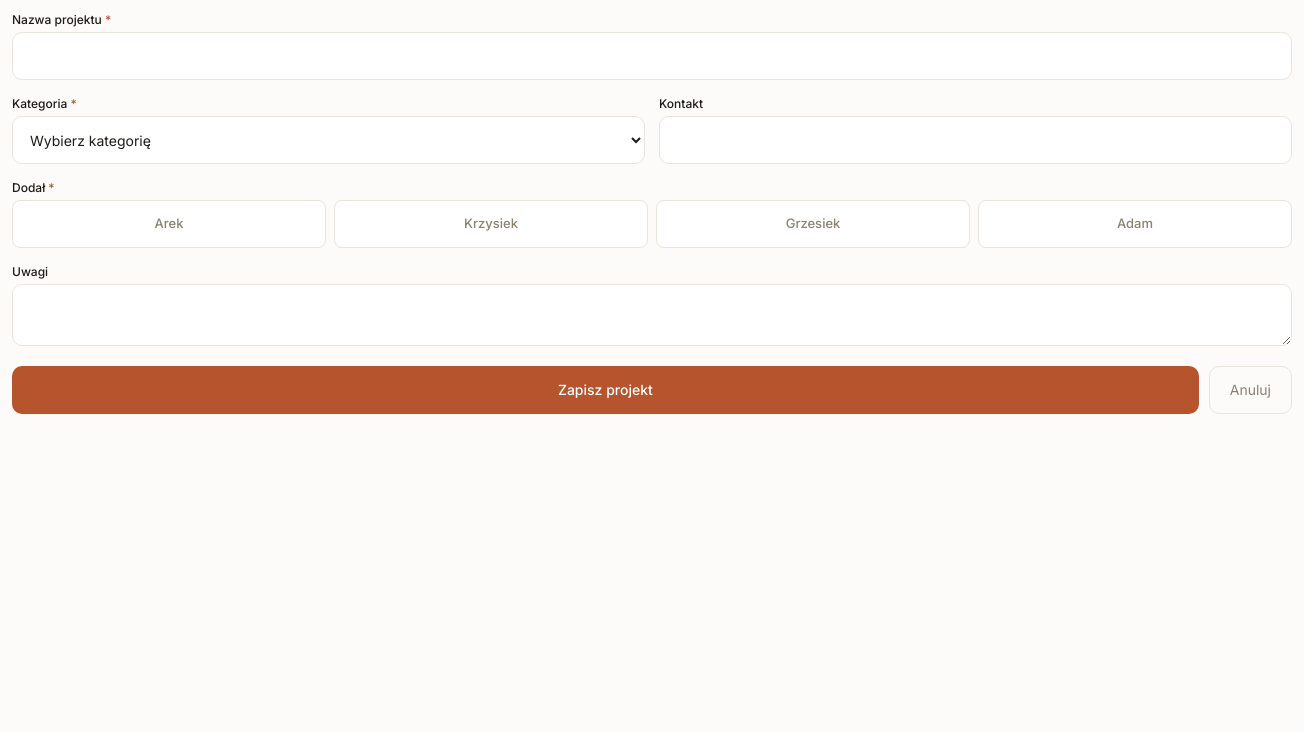
Test: ProjektForm — walidacja › wybór „Inne…" bez wpisania własnej kategorii blokuje submit z komunikatem PL
The image size is (1304, 732).
Type "Bluzy dla klubu" into the field labelled "Nazwa projektu *". click: (652, 56)
box: x1=12 y1=32 x2=1292 y2=80
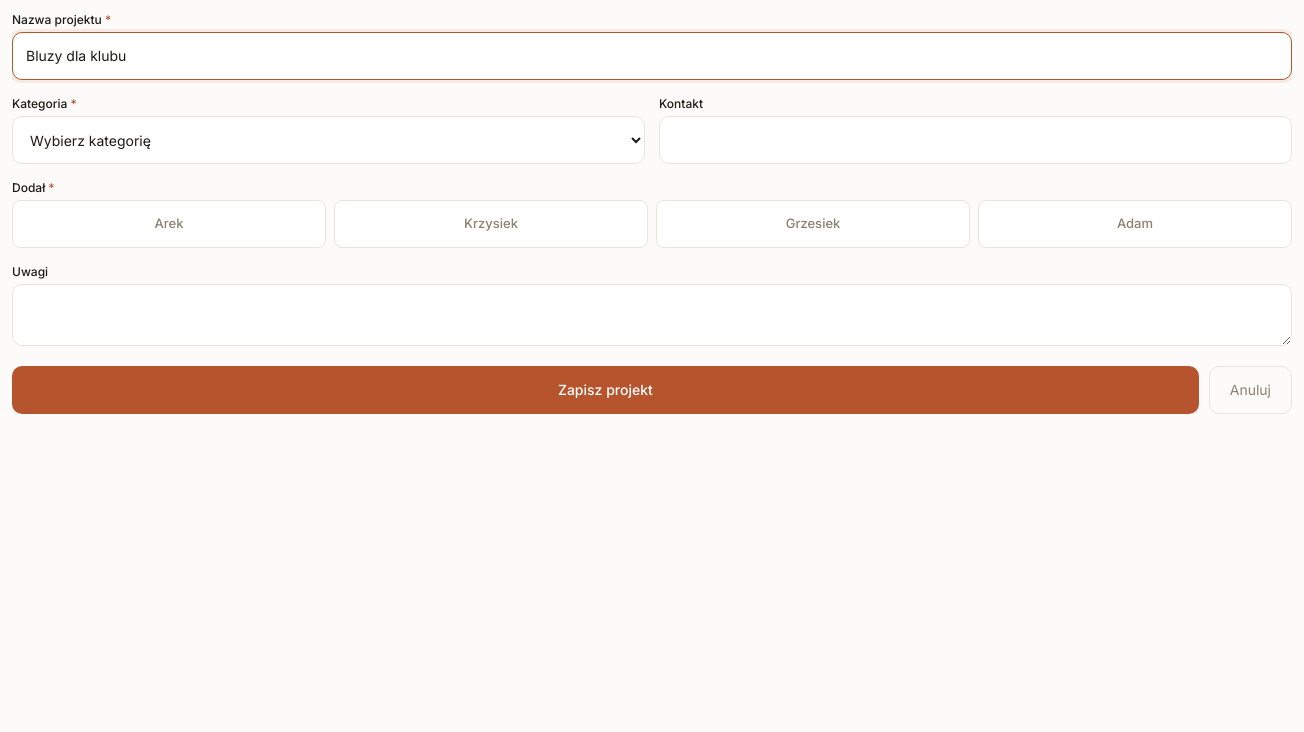
Select "Inne…" in the dropdown labelled "Kategoria *". click: (328, 140)
box: x1=12 y1=116 x2=645 y2=164
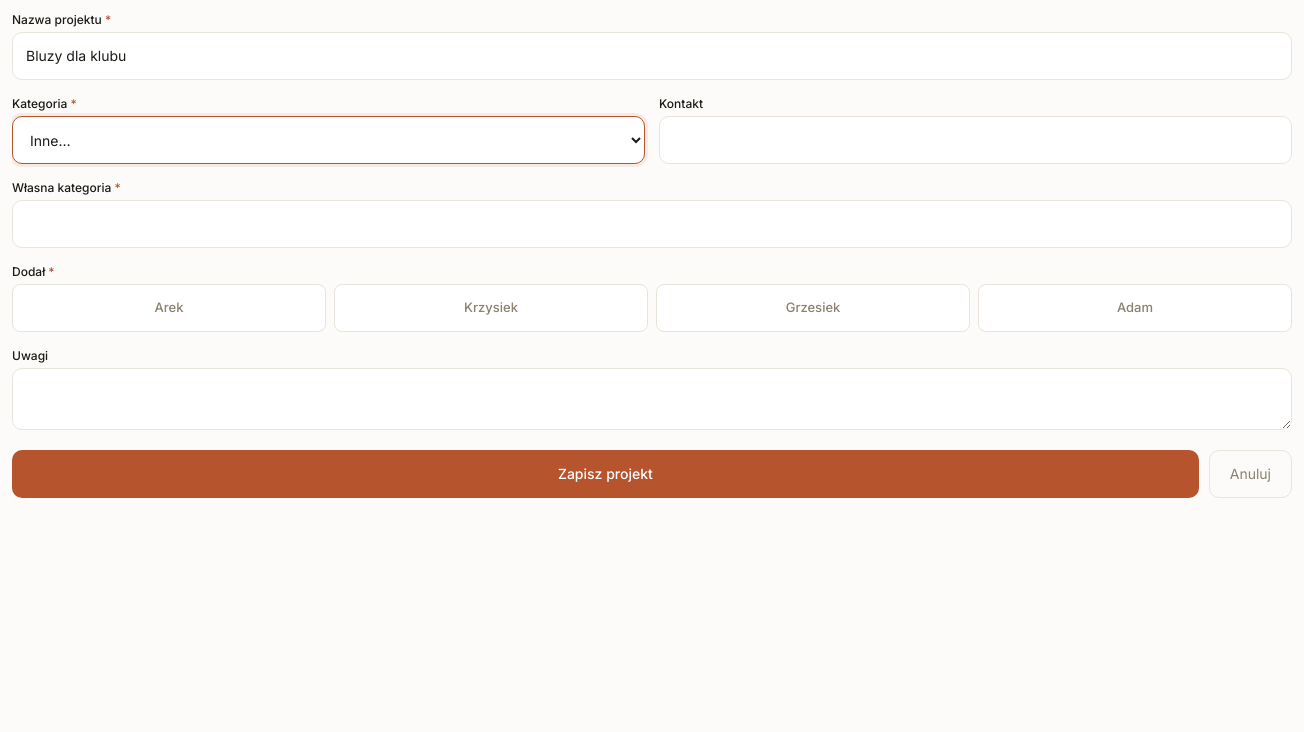
Click the radio button labelled "Arek". click: (169, 308)
box: x1=12 y1=284 x2=326 y2=332
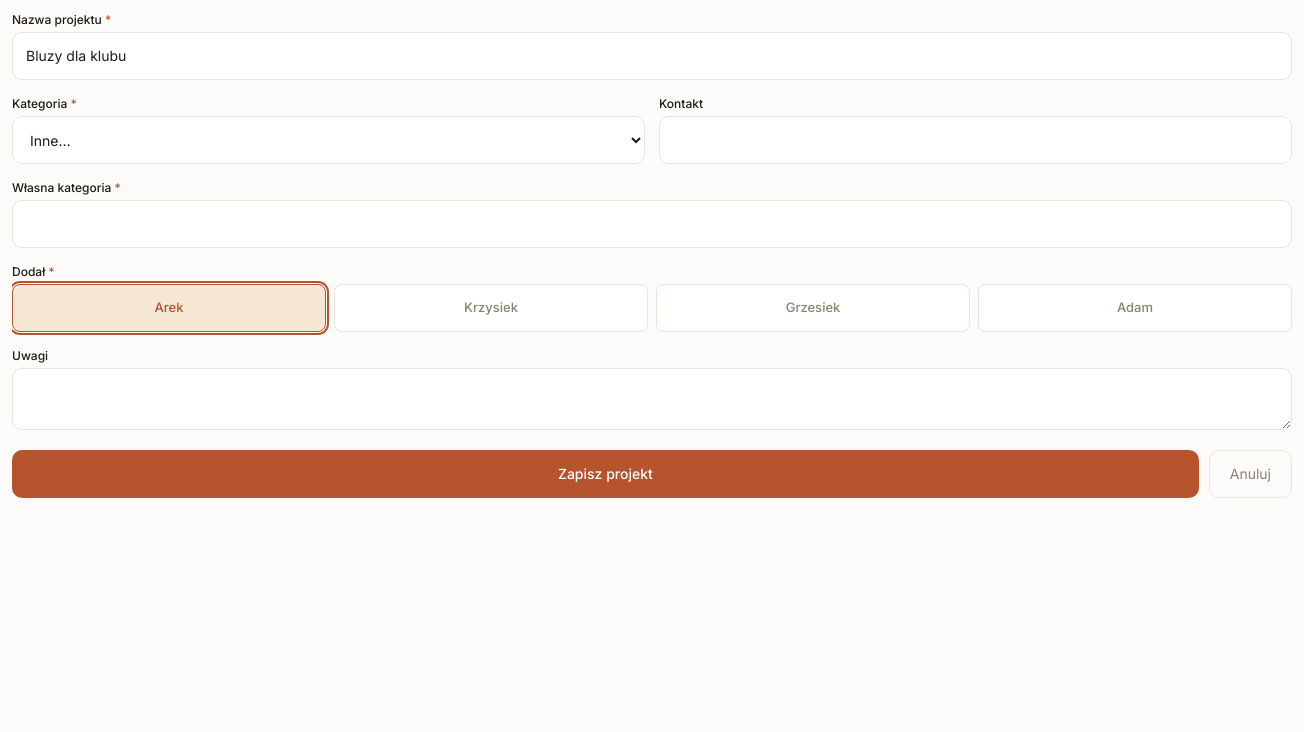
Click the button "Zapisz projekt". click: (605, 474)
box: x1=12 y1=450 x2=1199 y2=498
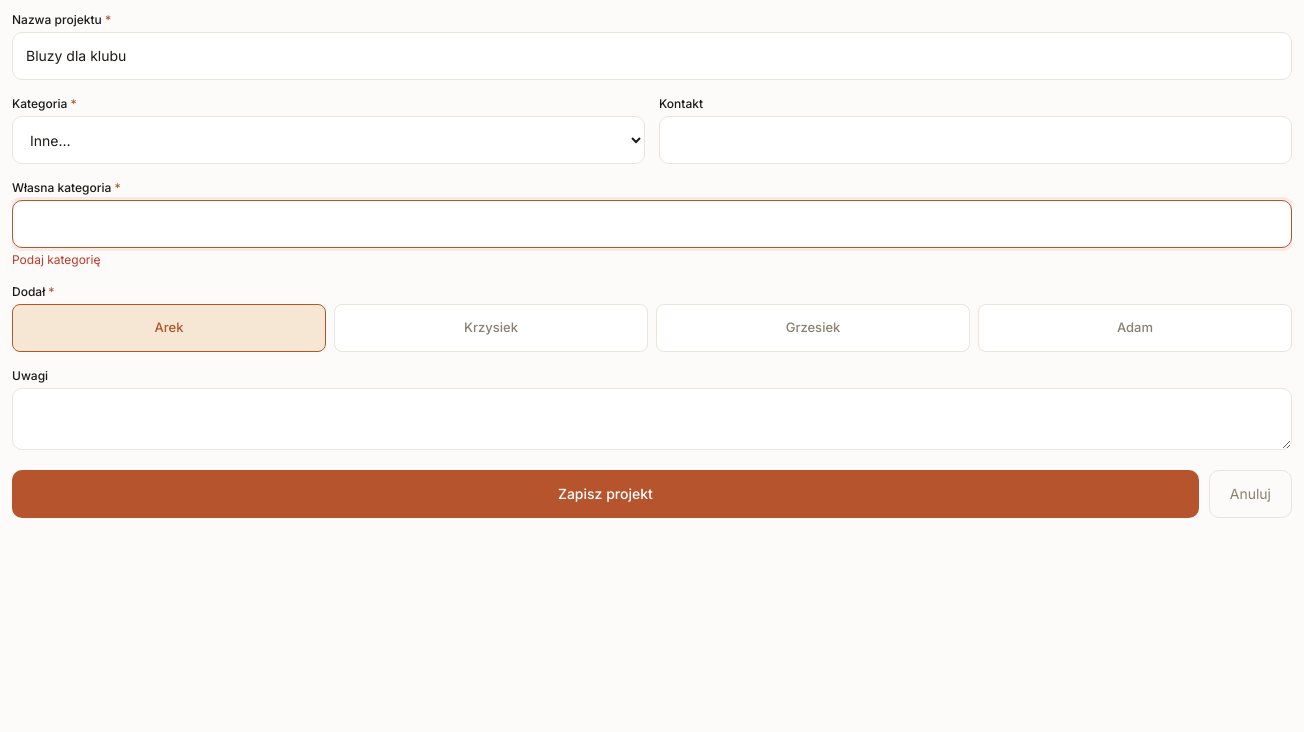
Expected: the text "Podaj kategorię" is shown, x1=12 y1=252 x2=100 y2=267
